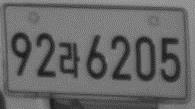0: (133, 35, 156, 81)
2: (109, 34, 131, 81), (35, 31, 56, 78)
5: (158, 36, 181, 83)
6: (84, 33, 108, 80)
9: (9, 31, 32, 75)
라: (57, 40, 81, 79)
